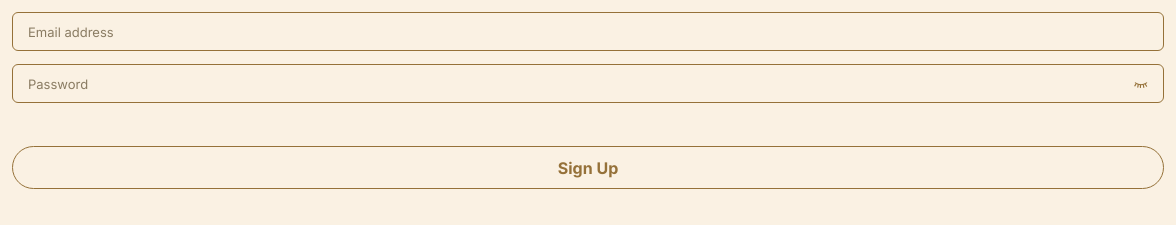
it: SignupForm › shows a field error when the password fails policy
Type "a@b.com" into the field labelled "Email". click: (588, 32)
box: top-left (12, 12), bottom-right (1164, 51)
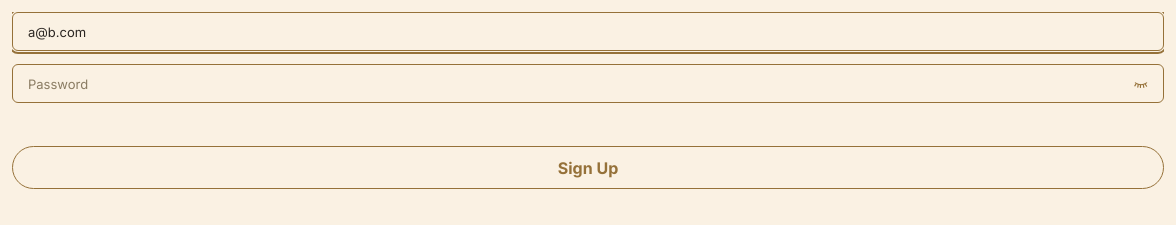
Type "short" into the password field labelled "Password". click: (588, 84)
box: top-left (12, 64), bottom-right (1164, 103)
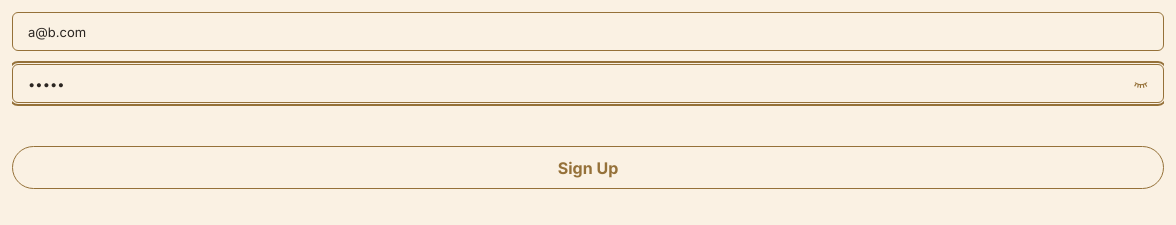
Click the button "Sign Up". click: (588, 168)
box: top-left (12, 146), bottom-right (1164, 189)
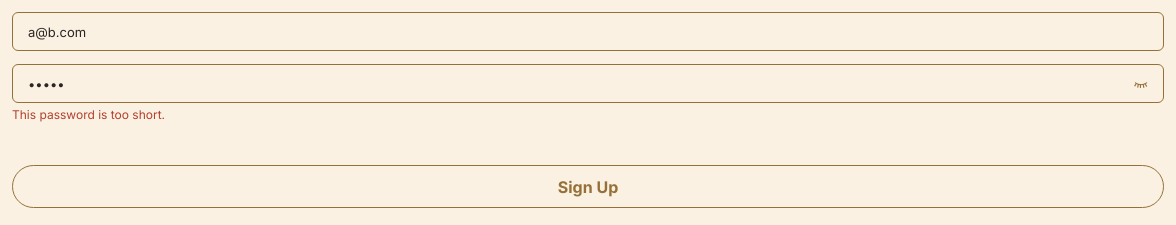
Expected: the text "This password is too short." is shown, top-left (12, 107), bottom-right (165, 122)
